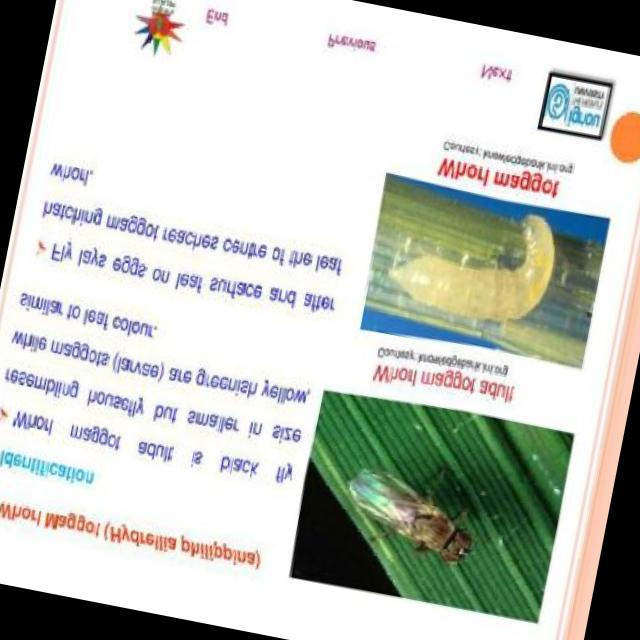whorl-maggot: (374, 183, 570, 348)
